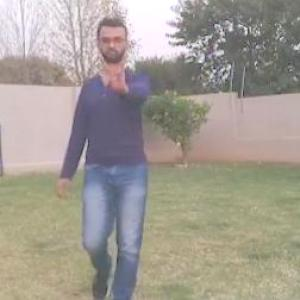takeoff-hand: (99, 48, 133, 95)
